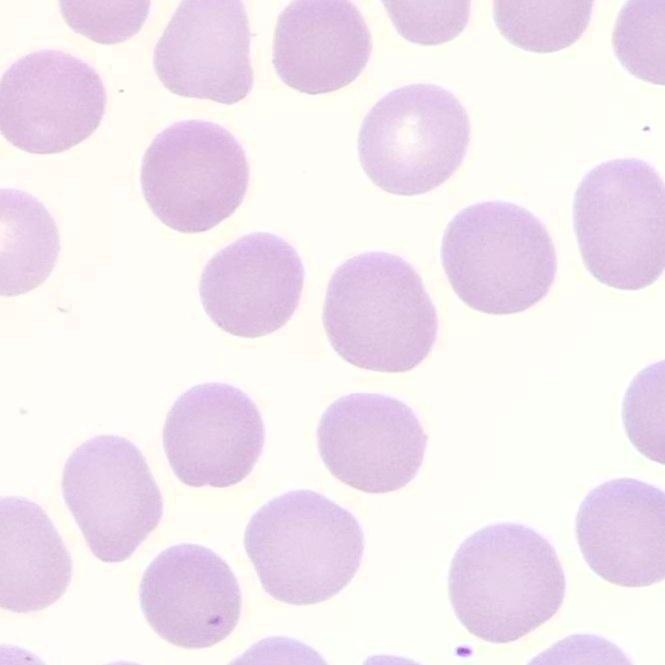Uninfected: (322, 249, 441, 376), (448, 519, 566, 647), (248, 487, 363, 610), (65, 432, 163, 568), (357, 81, 469, 195), (440, 201, 554, 311), (575, 152, 665, 290), (163, 379, 266, 491), (142, 121, 244, 234), (195, 231, 302, 335), (0, 51, 106, 155), (322, 392, 428, 494), (140, 544, 241, 649), (152, 0, 254, 102), (575, 477, 665, 589), (272, 0, 372, 97), (0, 497, 74, 614)
